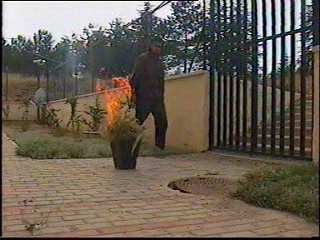fire: (93, 74, 138, 123)
